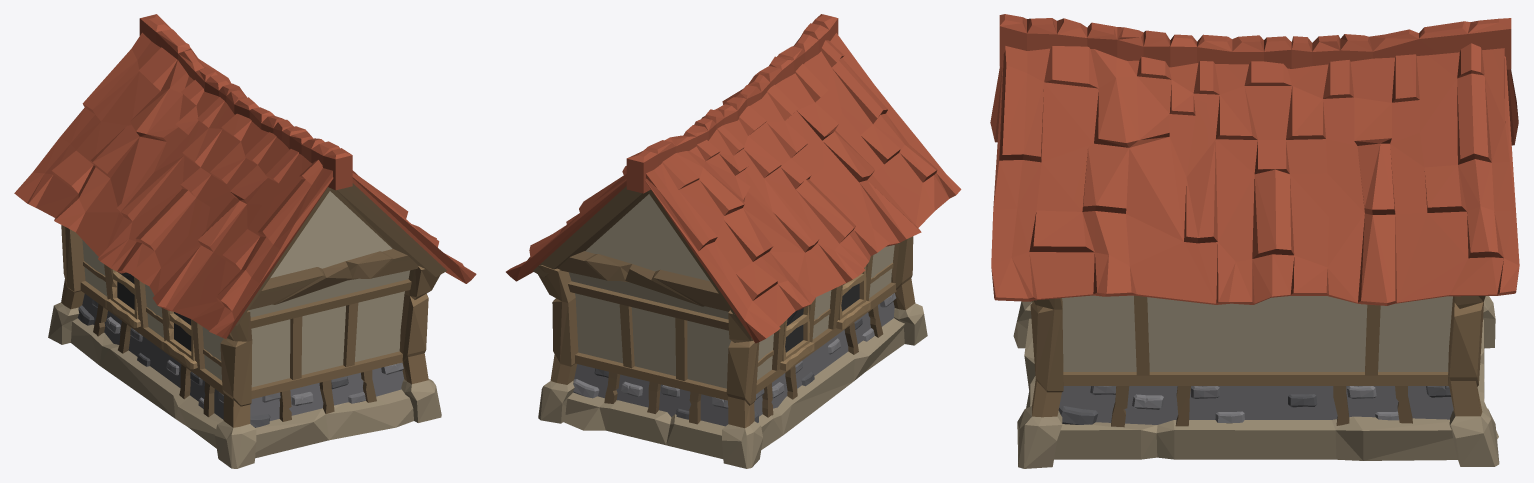
Rendered from SM_Bld_House_Room_04.gltf.
3 renders of one model, left to right at view 1: azimuth 30°, elevation 25°; view 2: azimuth 150°, elevation 25°; view 3: azimuth 270°, elevation 25°, orthographic. The views are drawn at different scales.
Visible parts, largest first — view 1: SM_Bld_House_Room_04; view 2: SM_Bld_House_Room_04; view 3: SM_Bld_House_Room_04.
Part boxes in pixels (x1,y1,x2,y2): SM_Bld_House_Room_04: (14, 14, 476, 468); SM_Bld_House_Room_04: (506, 14, 961, 468); SM_Bld_House_Room_04: (990, 14, 1519, 468).
Size of the model in its own units: 5.04 by 5.09 by 6.38.
1 material, 1 textured.
